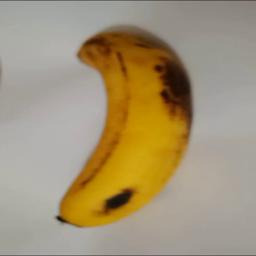Banana Semifresh: (52, 29, 195, 226)
